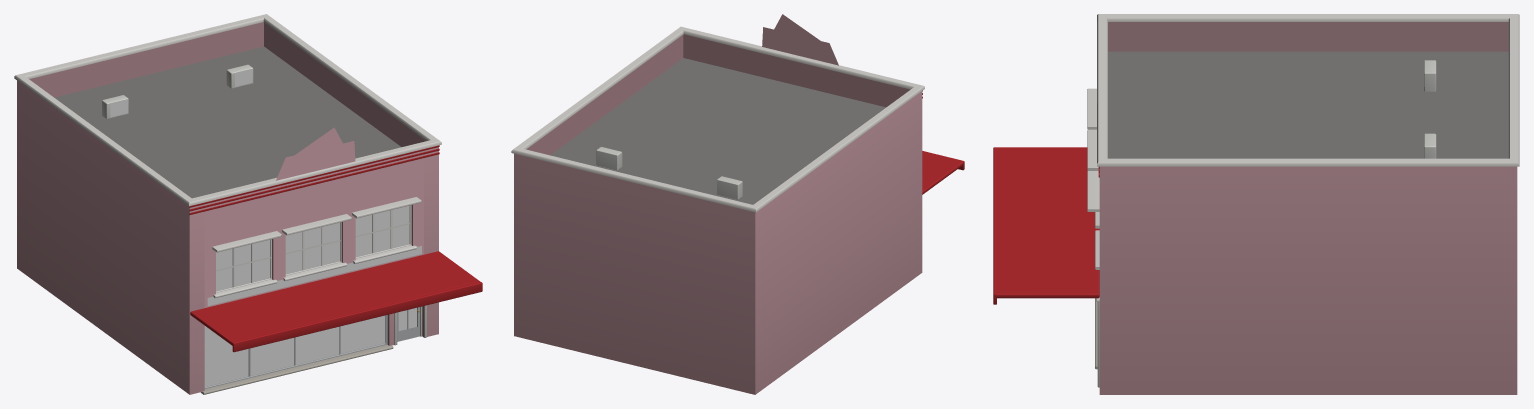
The model's file is DecoArcade2MIA.fbx.
3 views of the same model, side by side, from view 1: azimuth 30°, elevation 25°; view 2: azimuth 150°, elevation 25°; view 3: azimuth 270°, elevation 25° (orthographic). The views are drawn at different scales.
Parts seen in each view (by area): view 1: DecoArcade2MIA; view 2: DecoArcade2MIA; view 3: DecoArcade2MIA.
Part boxes in pixels (x1=…): DecoArcade2MIA: x1=14, y1=14, x2=482, y2=394; DecoArcade2MIA: x1=511, y1=14, x2=964, y2=394; DecoArcade2MIA: x1=993, y1=14, x2=1519, y2=394.
Bounding box in the file's own units: 10.14 × 8.97 × 15.12.
